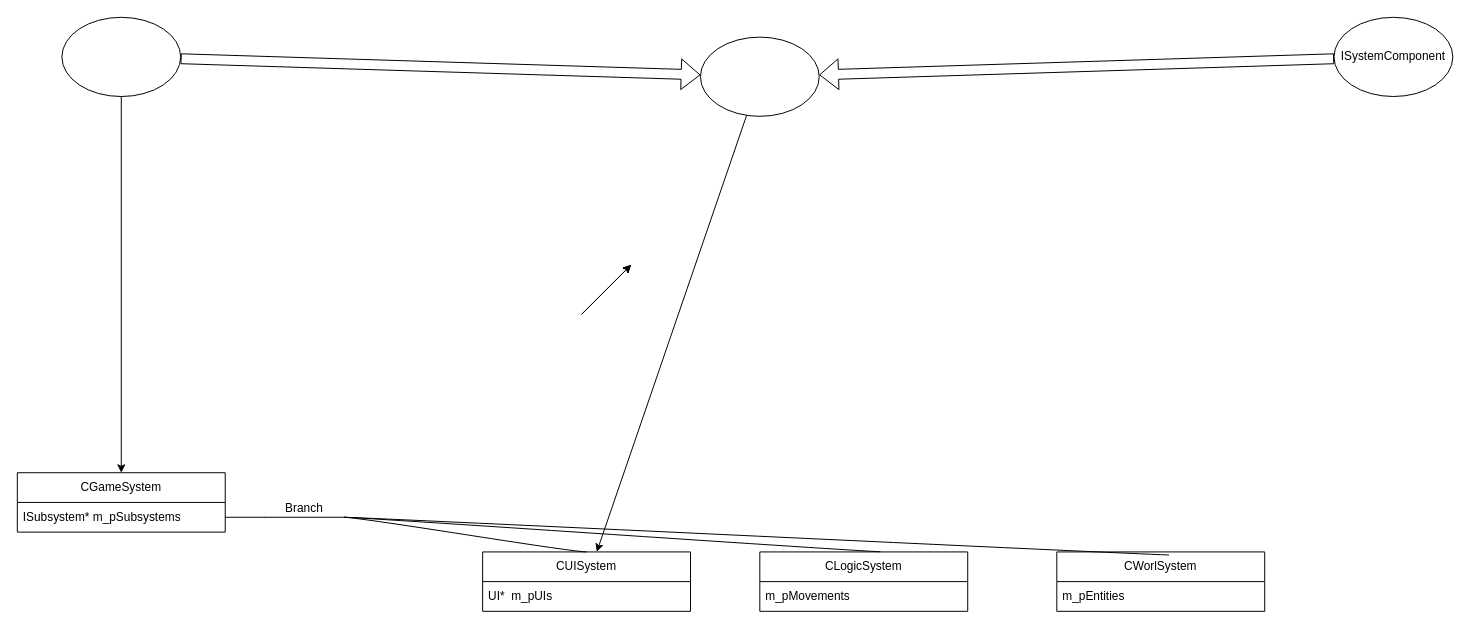
This 1470x629 diagram has some shape labels left out. The centre of each missing label's shape, as x and y in pixels:
"ISubsystem" goes at (759,76).
"ISystem" goes at (121,56).
